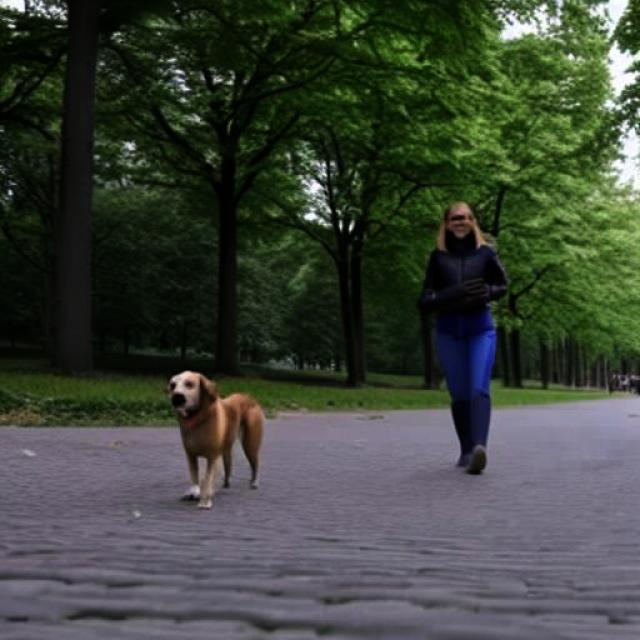Unleashed_Dog: (167, 306, 495, 511)
